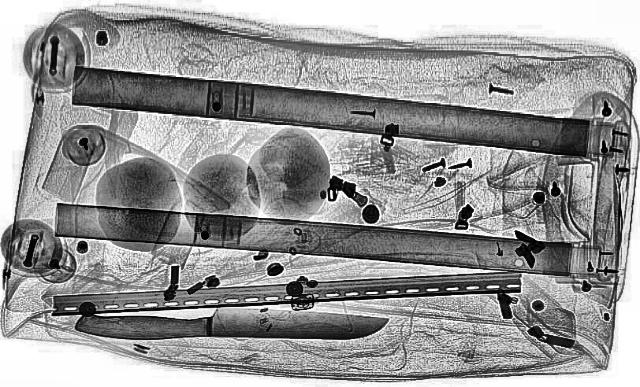Knife: (74, 307, 388, 339)
